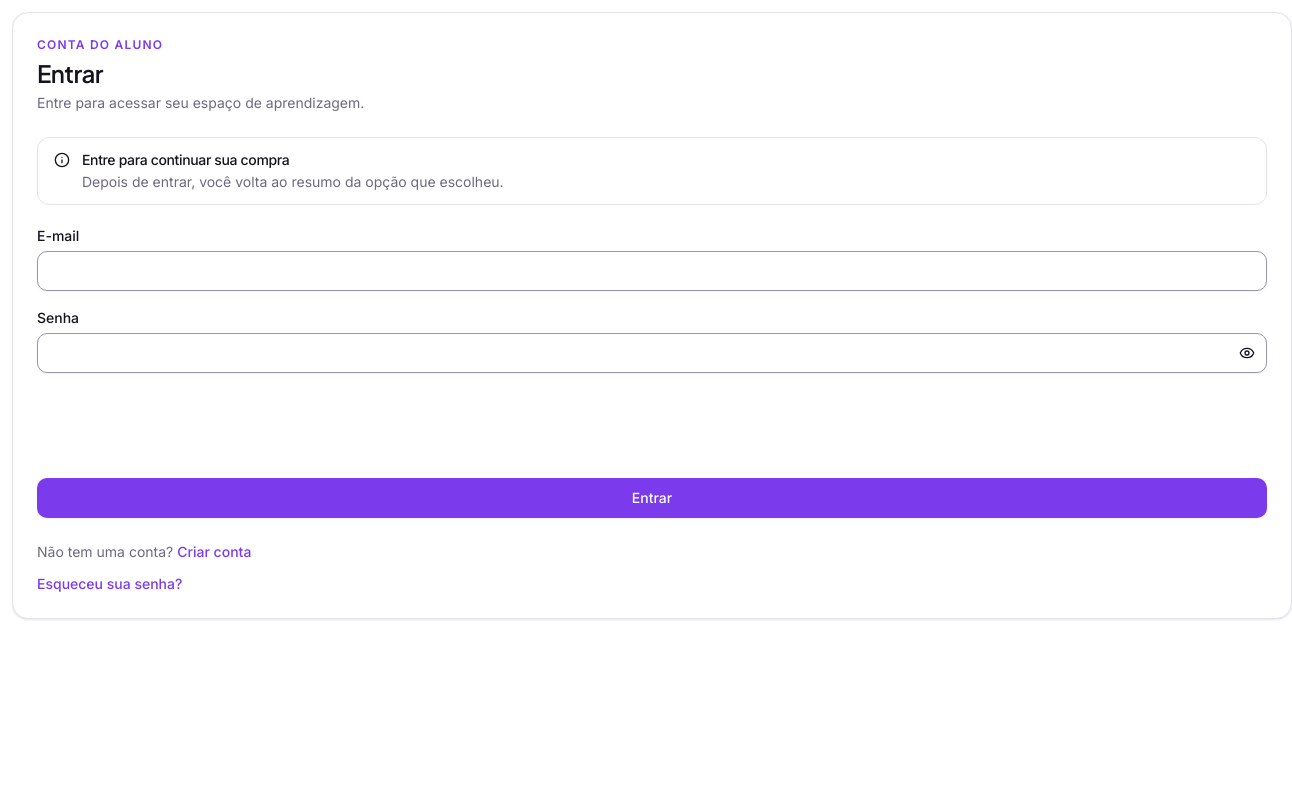
Test case: student-purchase-summary › login without returnTo resumes purchase after registration and email confirmation in another tab
Check: the text "Entre para continuar sua compra" is shown, box 82,151 -> 289,168
In the field labelled "E-mail": (652, 271) 37,251 -> 1267,291, type "ana@example.com"
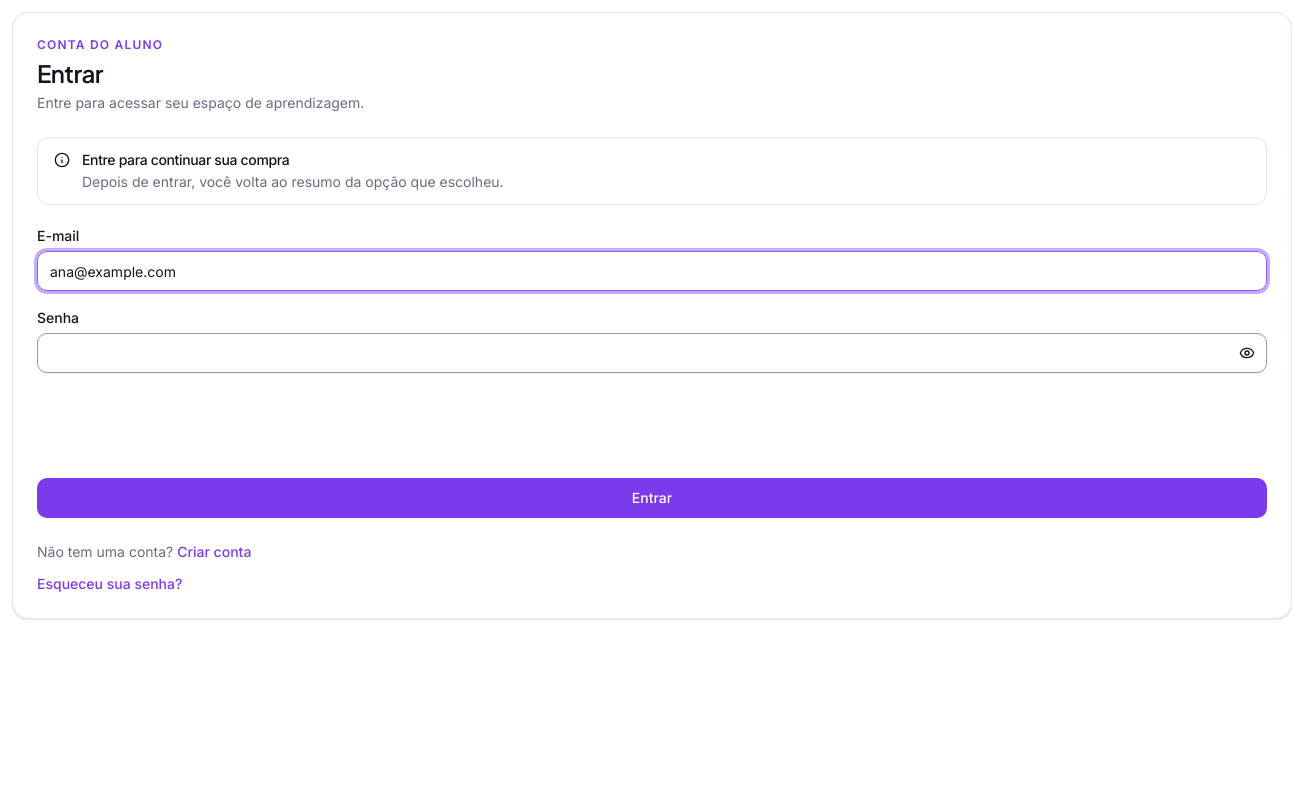
In the password field labelled "Senha": (652, 353) 37,333 -> 1267,373, type "SecurePassword1!"
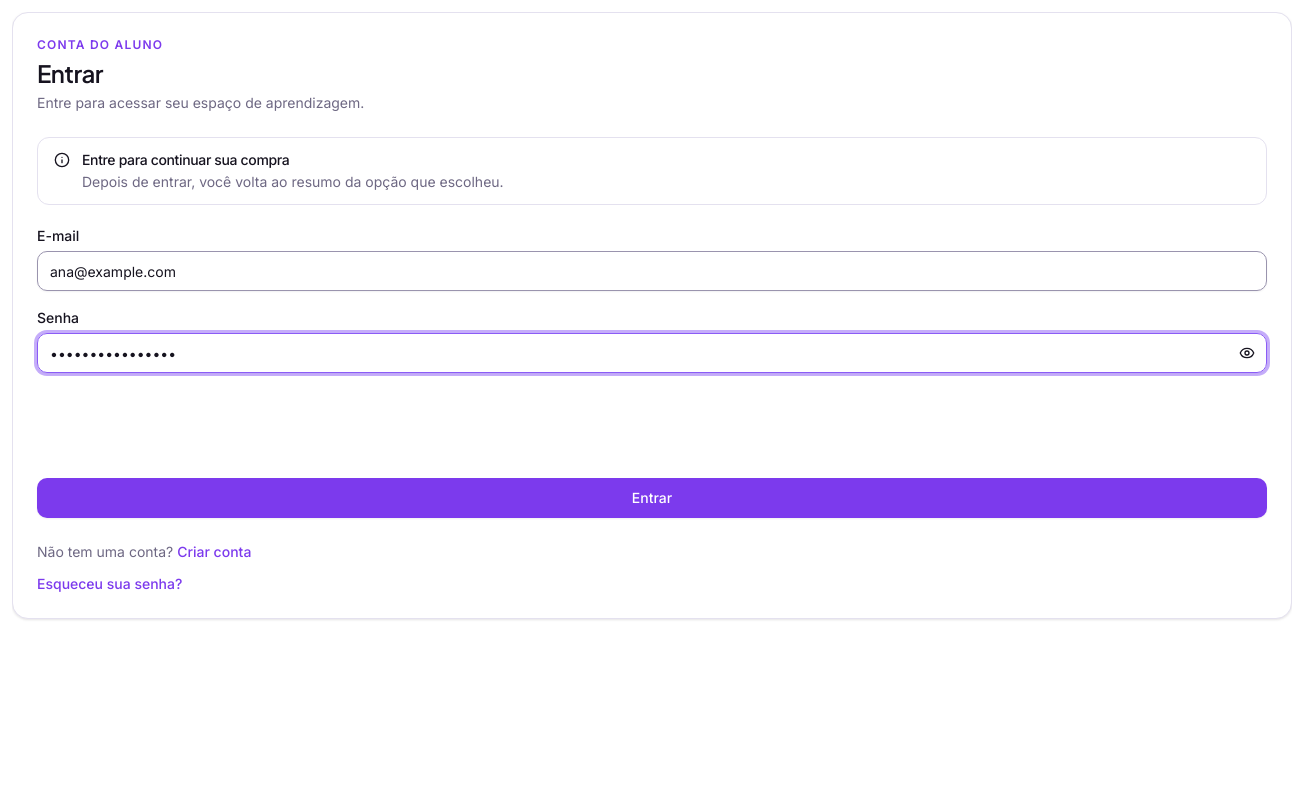
Click the button "Entrar": (652, 498) 37,478 -> 1267,518
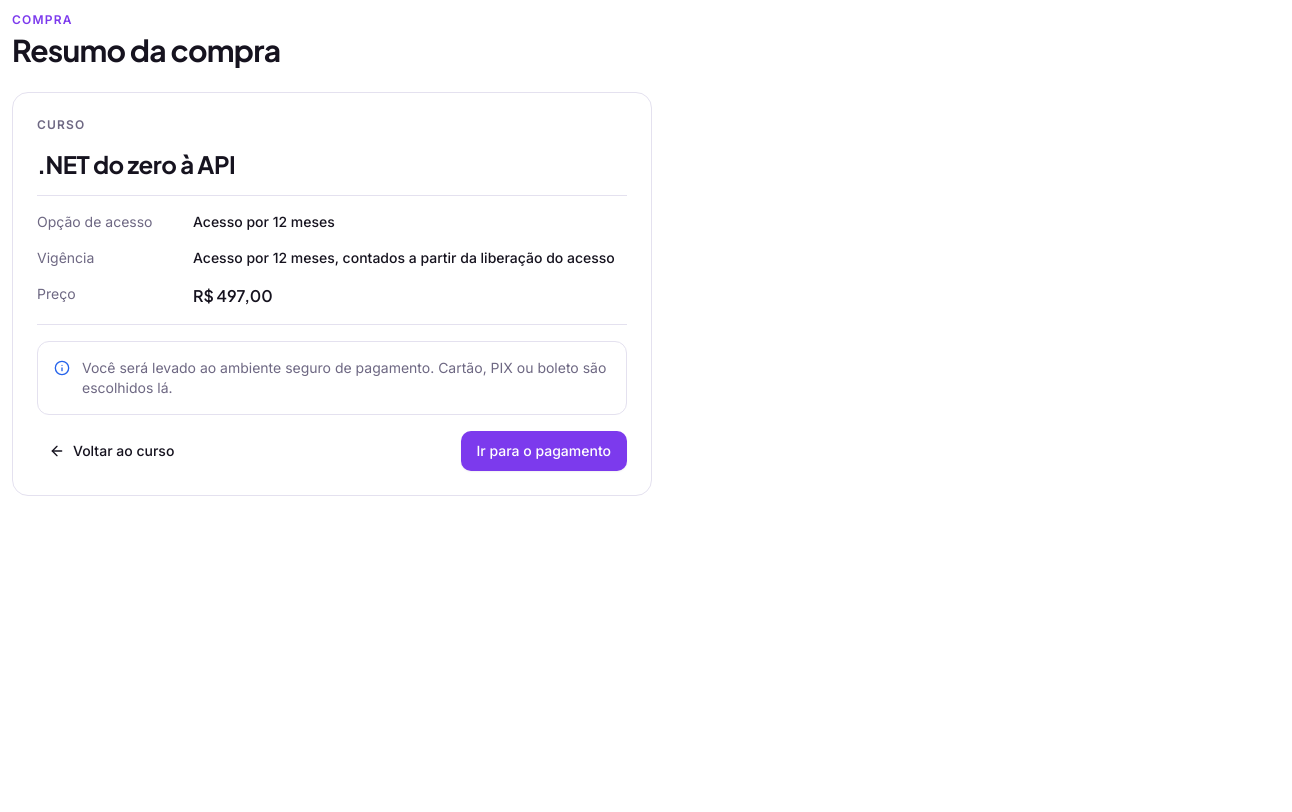
Check: the heading "Resumo da compra" is shown, box 12,31 -> 280,69
